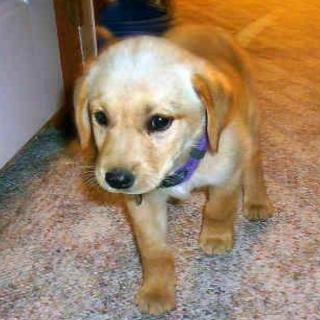dog: (68, 34, 235, 202)
nose: (102, 165, 135, 193)
